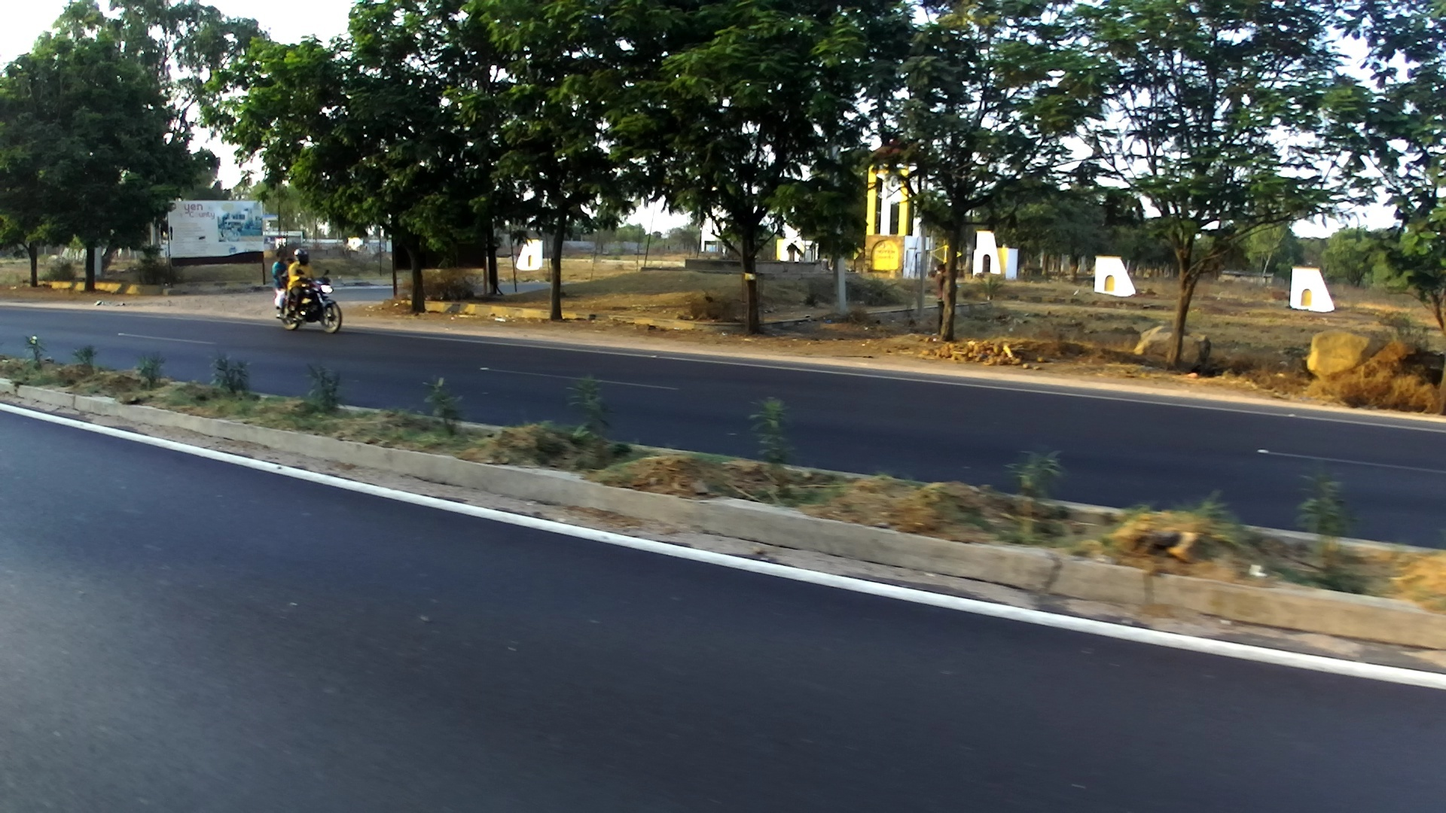motorcycle: (275, 268, 343, 334)
rider: (287, 252, 323, 321), (267, 248, 300, 319)
